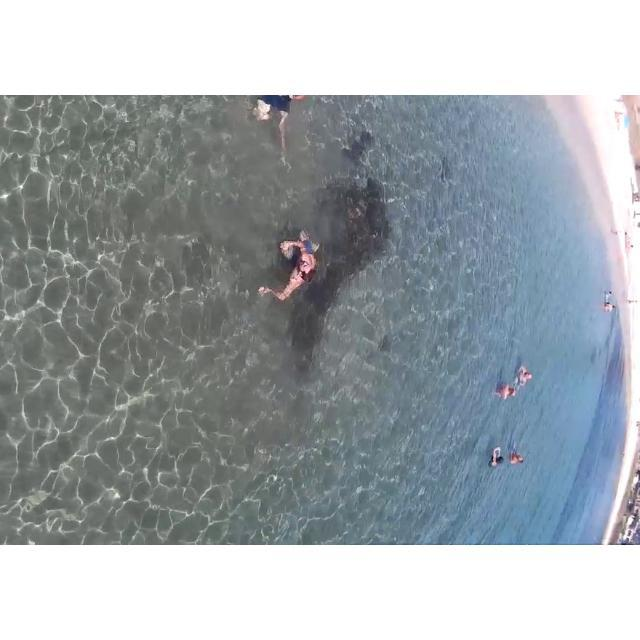human: (245, 227, 321, 322), (246, 95, 311, 183), (515, 352, 544, 391), (490, 377, 519, 408), (501, 442, 529, 468), (491, 438, 507, 472)
